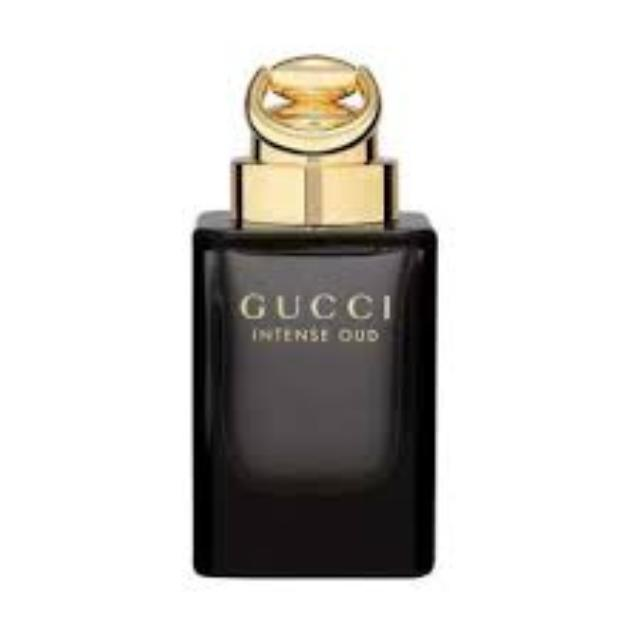Gucci: (234, 278, 412, 354)
